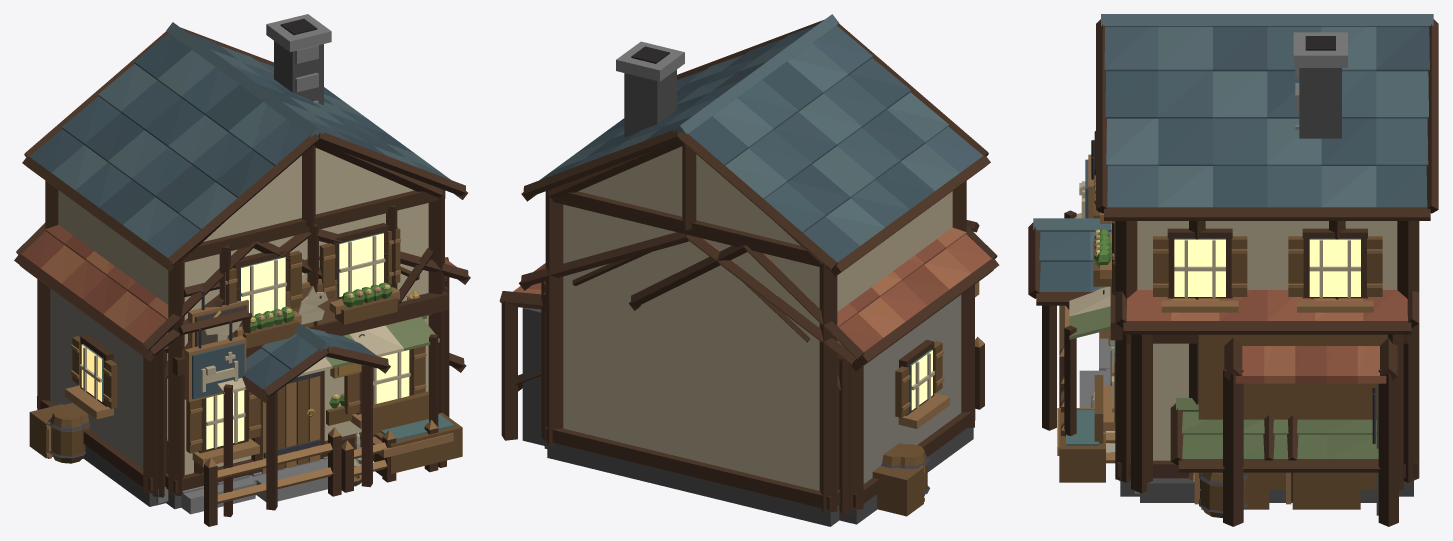
Rendered from town.glb.
3 renders of one model, left to right at view 1: azimuth 30°, elevation 25°; view 2: azimuth 150°, elevation 25°; view 3: azimuth 270°, elevation 25°, orthographic. The views are drawn at different scales.
Visible parts, largest first — view 1: town_inn_a, town_blacksmith_a, town_stable_a, town_pet_shop_a; view 2: town_inn_a, town_blacksmith_a, town_stable_a, town_pet_shop_a; view 3: town_inn_a, town_stable_a, town_pet_shop_a, town_blacksmith_a.
Part boxes in pixels (x1,y1,x2,y2): town_inn_a: (22, 14, 467, 510); town_blacksmith_a: (14, 223, 448, 514); town_stable_a: (20, 229, 470, 526); town_pet_shop_a: (217, 235, 466, 517); town_inn_a: (521, 14, 990, 526); town_blacksmith_a: (499, 225, 999, 524); town_stable_a: (519, 232, 993, 523); town_pet_shop_a: (515, 239, 810, 391); town_inn_a: (1028, 14, 1438, 496); town_stable_a: (1059, 290, 1419, 502); town_pet_shop_a: (1061, 210, 1380, 509); town_blacksmith_a: (1099, 332, 1398, 526).
Size of the model in its own units: 5.02 by 4.79 by 4.22.
